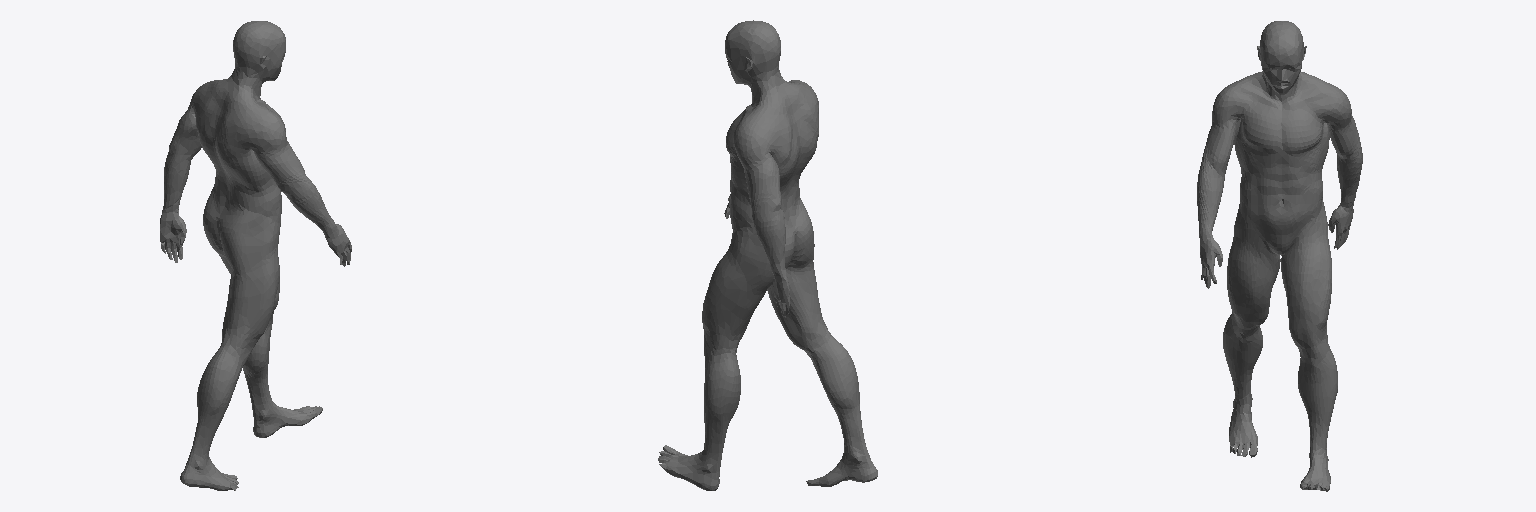
URDF robot description (coordinate.urdf):
<?xml version="1.0" ?>
<robot name="coordinate.urdf">
  <link name="baseLink">
    <contact>
    	<friction_anchor/>
    	   <lateral_friction value="0.05"/>
    </contact>
    <inertial>
      <origin rpy="0 0 0" xyz="0 0 0"/>
       <mass value=".0001"/>
       <inertia ixx="1" ixy="0" ixz="0" iyy="1" iyz="0" izz="1"/>
    </inertial>
    <visual>
      <origin rpy="0 0 1.5709" xyz="0 0 0"/>
      <geometry>
	<mesh filename="human.stl" scale="1 1 1"/>
      </geometry>
       <material name="Grey">
    <color rgba="0.5 0.5 0.5 1.0"/>
  </material>
    </visual>
   
  </link>
</robot>

--- Render facts (derived) ---
The picture shows the robot from 3 angles, left to right: view 1: azimuth 30°, elevation 25°; view 2: azimuth 150°, elevation 25°; view 3: azimuth 270°, elevation 25°; orthographic projection.
Robot: coordinate.urdf — 1 links, 0 joints (none); root link baseLink; default pose: all joints at 0.
Visible links, largest first — view 1: baseLink; view 2: baseLink; view 3: baseLink.
Boxes of the visible links, left/top/right/bottom form: baseLink: left=160, top=21, right=351, bottom=490; baseLink: left=658, top=20, right=877, bottom=490; baseLink: left=1197, top=21, right=1362, bottom=491.
Size in the robot's own frame: 0.7139 by 0.5772 by 1.74 metres.
1 mesh visuals loaded from 1 distinct referenced files (1 binary STL).
